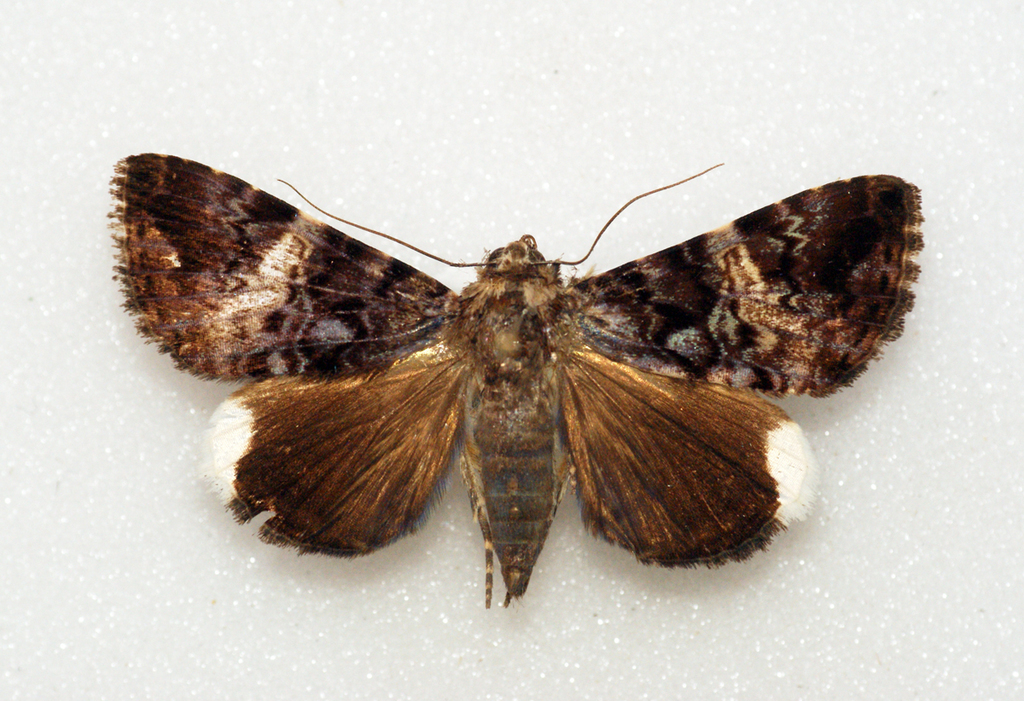Butterfly: (94, 128, 936, 617)
